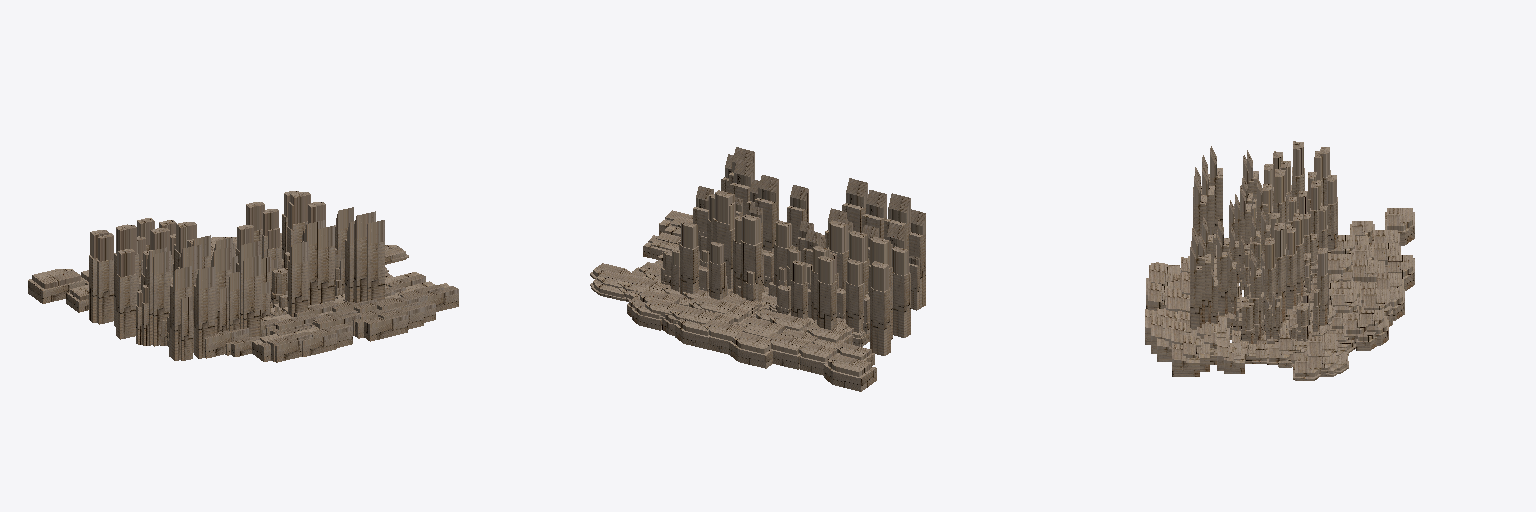
3 renders of one model, left to right at view 1: azimuth 30°, elevation 25°; view 2: azimuth 150°, elevation 25°; view 3: azimuth 270°, elevation 25°, orthographic.
Visible parts, largest first — view 1: 立方体; view 2: 立方体; view 3: 立方体.
Part boxes in pixels (x1,y1,x2,y2): 立方体: (28,191,458,362); 立方体: (590,147,925,391); 立方体: (1145,141,1414,380).
Bounding box in the file's own units: 177 × 61.98 × 129.
Materials: 1 (1 with a texture image).